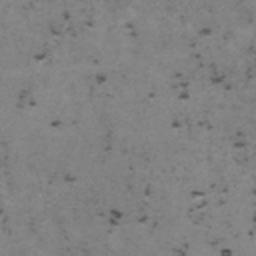Oxide scale of temperature system: (61, 26, 256, 256), (35, 9, 140, 84), (13, 90, 61, 128), (0, 206, 5, 216)
